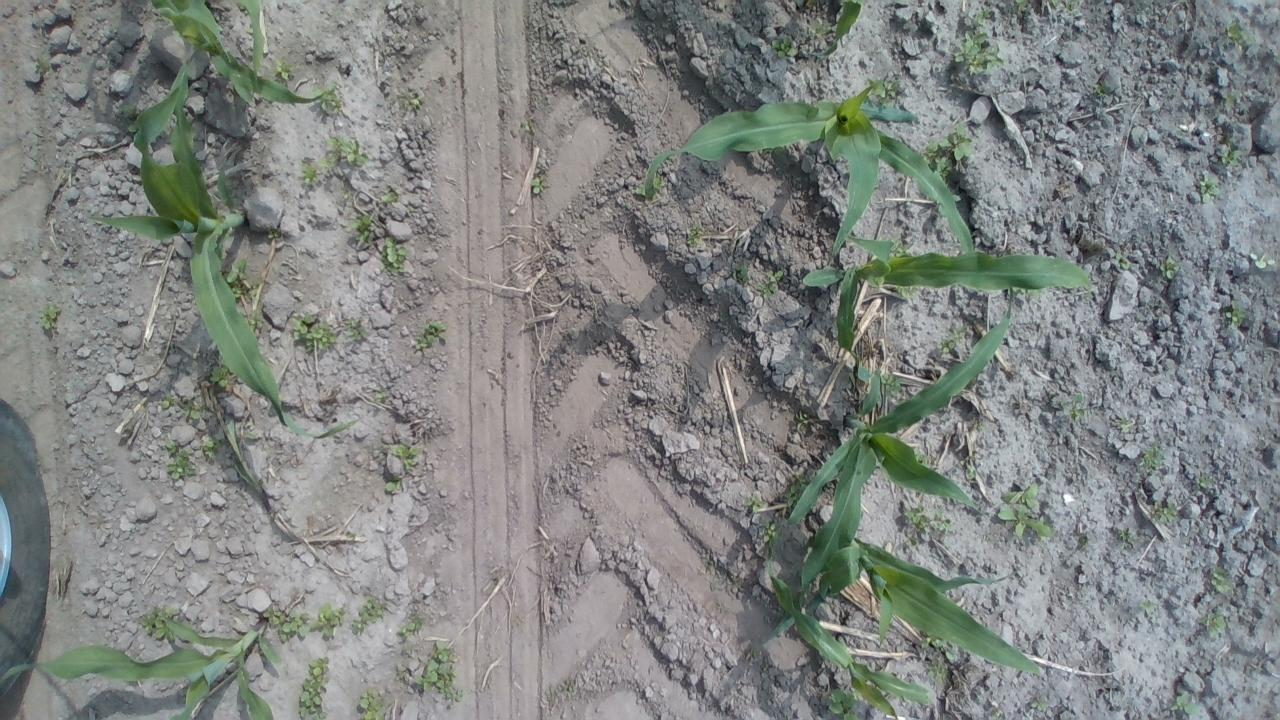Maize: (82, 46, 364, 445), (643, 78, 984, 266), (786, 311, 1016, 589), (764, 525, 1050, 719), (809, 232, 1098, 360), (1, 614, 290, 719), (118, 1, 336, 106)
Weeds: (400, 637, 464, 710), (992, 480, 1056, 542), (286, 308, 344, 362), (924, 126, 980, 180), (951, 32, 1003, 84), (296, 653, 334, 720), (896, 500, 952, 542), (160, 437, 202, 488), (347, 594, 388, 644), (137, 606, 186, 640), (386, 440, 432, 474), (265, 608, 312, 640), (328, 131, 368, 168), (342, 208, 378, 248), (35, 299, 70, 340), (542, 678, 584, 712), (866, 70, 903, 108), (1166, 691, 1216, 719), (338, 316, 374, 353), (822, 686, 861, 720), (354, 682, 388, 720), (1134, 437, 1167, 476), (378, 233, 407, 276), (412, 317, 450, 348), (311, 601, 341, 639), (938, 332, 971, 366), (1148, 498, 1181, 532), (754, 267, 786, 302), (221, 256, 256, 288), (1202, 561, 1238, 592), (1061, 390, 1091, 426), (298, 152, 326, 190), (1246, 246, 1278, 279), (196, 439, 238, 464), (924, 660, 957, 690), (766, 32, 798, 62), (786, 404, 816, 436), (1212, 139, 1245, 167), (753, 520, 783, 550), (396, 608, 419, 646), (1196, 608, 1224, 639), (201, 366, 234, 392), (405, 88, 431, 121), (682, 222, 712, 250), (1160, 252, 1184, 286), (320, 86, 348, 113), (1193, 467, 1222, 493), (1111, 409, 1136, 439), (1222, 302, 1244, 336), (1224, 24, 1252, 50), (1112, 522, 1138, 550), (1194, 172, 1218, 202), (1108, 251, 1135, 277), (883, 371, 904, 402), (370, 384, 393, 411), (184, 396, 204, 426), (728, 265, 751, 291), (528, 176, 551, 200), (1030, 696, 1056, 717), (1070, 528, 1092, 550), (746, 492, 766, 516), (1138, 594, 1158, 618), (156, 390, 176, 413), (382, 475, 406, 494), (808, 24, 829, 44), (374, 190, 398, 207), (519, 116, 533, 142)
